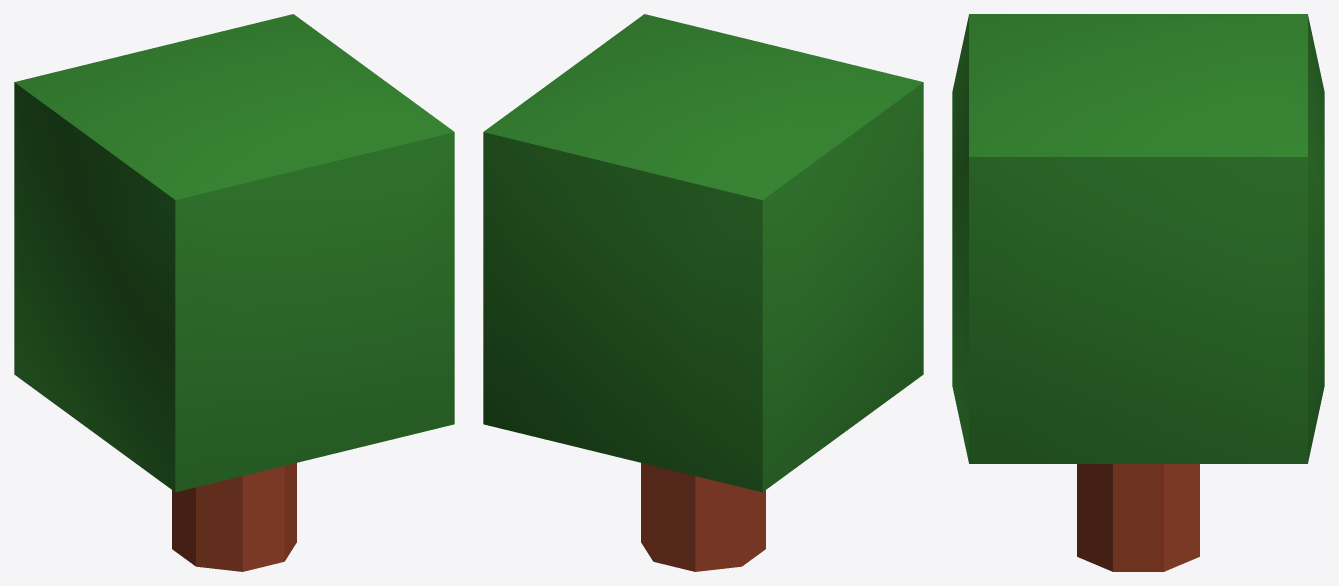
The model's file is Folliage 1.obj.
3 renders of one model, left to right at view 1: azimuth 30°, elevation 25°; view 2: azimuth 150°, elevation 25°; view 3: azimuth 270°, elevation 25°, orthographic. The views are drawn at different scales.
Parts seen in each view (by area): view 1: mergedBlocks; view 2: mergedBlocks; view 3: mergedBlocks.
Boxes of the visible parts, <box> form: mergedBlocks: <box>14,14,454,571</box>; mergedBlocks: <box>483,14,923,571</box>; mergedBlocks: <box>952,14,1324,571</box>.
Bounding box in the file's own units: 1.1 × 1.55 × 1.1.
